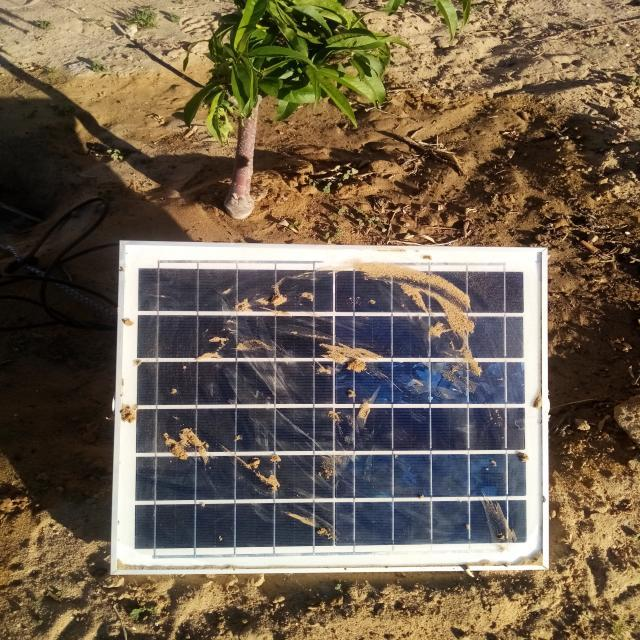faulty: (113, 242, 544, 571)
